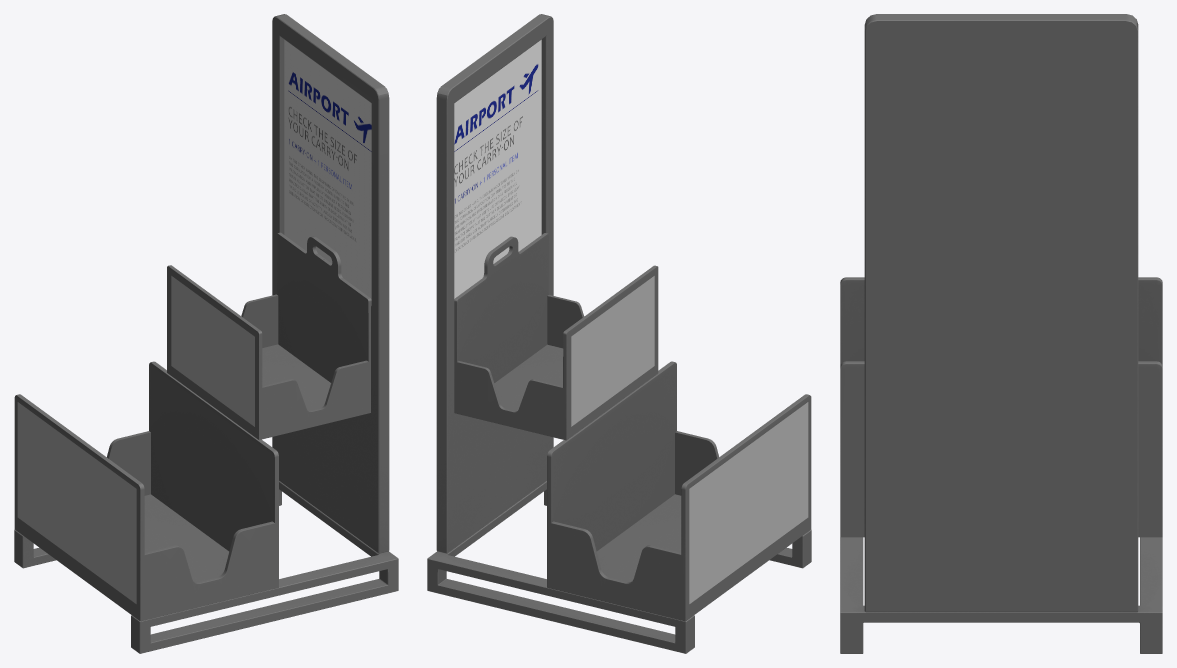
The model's file is baggage_check.fbx.
3 renders of one model, left to right at view 1: azimuth 30°, elevation 25°; view 2: azimuth 150°, elevation 25°; view 3: azimuth 270°, elevation 25°, orthographic. The views are drawn at different scales.
Parts seen in each view (by area): view 1: baggage_check; view 2: baggage_check; view 3: baggage_check.
Part boxes in pixels (left/top/right/bottom): baggage_check: left=14, top=14, right=398, bottom=653; baggage_check: left=427, top=14, right=811, bottom=653; baggage_check: left=840, top=14, right=1162, bottom=653.
Bounding box in the file's own units: 66.07 × 121 × 55.61.
